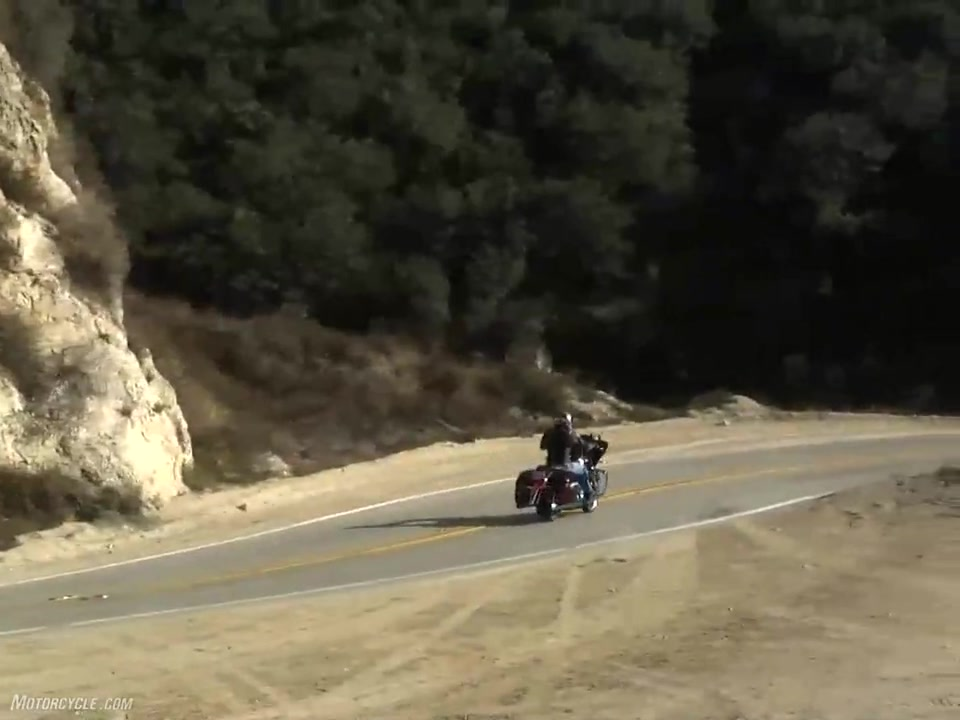motorbike: (514, 427, 613, 526)
